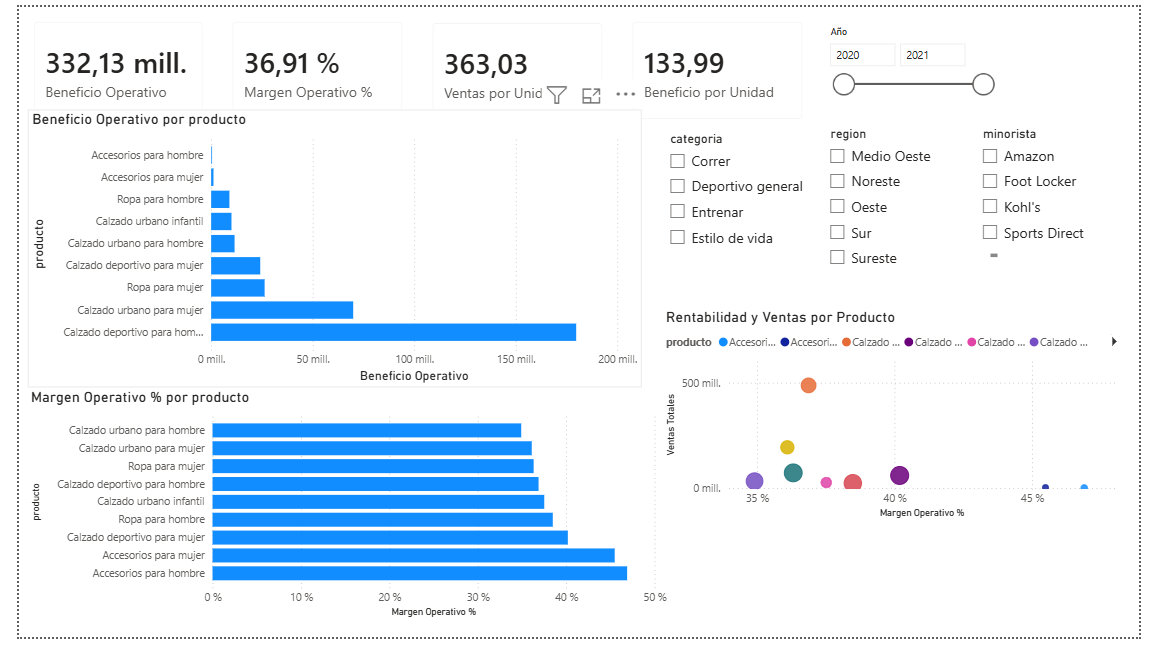

What the dashboard file says about the page in this screenshot:
{"tool":"powerbi","page":{"name":"Rentabilidad y desempeño","canvas":[1280,720],"ordinal":1},"visuals":[{"type":"cardVisual","fields":{"Data":["Calendario.Beneficio Operativo"]},"box":[0,0,227.9,145],"z":0},{"type":"cardVisual","fields":{"Data":["Calendario.Margen Operativo %"]},"box":[227.4,0,228.7,145.5],"z":1000},{"type":"cardVisual","fields":{"Data":["Calendario.Ventas por Unidad"]},"box":[456.1,1.2,228.7,145.5],"z":2000},{"type":"cardVisual","fields":{"Data":["Calendario.Beneficio por Unidad"]},"box":[684.8,0,228.7,145.5],"z":3000},{"type":"barChart","fields":{"Category":["ventas_adidas.producto"],"Y":["Calendario.Beneficio Operativo"]},"box":[10,117,702,318],"z":4000},{"type":"barChart","fields":{"Category":["ventas_adidas.producto"],"Y":["Calendario.Margen Operativo %"]},"box":[9,435,737,267],"z":5000},{"type":"scatterChart","title":"Rentabilidad y Ventas por Producto","fields":{"X":["Calendario.Margen Operativo %"],"Y":["Calendario.Ventas Totales"],"Size":["Calendario.Beneficio por Unidad"],"Series":["ventas_adidas.producto"]},"box":[734,344,537,245.6],"z":6000},{"type":"slicer","fields":{"Values":["Calendario.Año"]},"box":[914,17,209,114],"z":6001},{"type":"slicer","fields":{"Values":["ventas_adidas.region"]},"box":[914,131,209,171],"z":6002},{"type":"slicer","fields":{"Values":["ventas_adidas.categoria"]},"box":[731.2,137,170,160],"z":6003},{"type":"slicer","fields":{"Values":["ventas_adidas.minorista"]},"box":[1089,131,147,150],"z":6004}]}

Visuals, with their boxes in screenshot pixels (x1, y1, x2, y2), scaled from the page's 1280x720 canvas onto the 1152x657 screenshot:
cardVisual - Calendario.Beneficio Operativo: (0,0,205,132)
cardVisual - Calendario.Margen Operativo %: (205,0,410,133)
cardVisual - Calendario.Ventas por Unidad: (410,1,616,134)
cardVisual - Calendario.Beneficio por Unidad: (616,0,822,133)
barChart - ventas_adidas.producto x Calendario.Beneficio Operativo: (9,107,641,397)
barChart - ventas_adidas.producto x Calendario.Margen Operativo %: (8,397,671,641)
"Rentabilidad y Ventas por Producto" scatterChart: (661,314,1144,538)
slicer - Calendario.Año: (823,16,1011,120)
slicer - ventas_adidas.region: (823,120,1011,276)
slicer - ventas_adidas.categoria: (658,125,811,271)
slicer - ventas_adidas.minorista: (980,120,1112,256)
